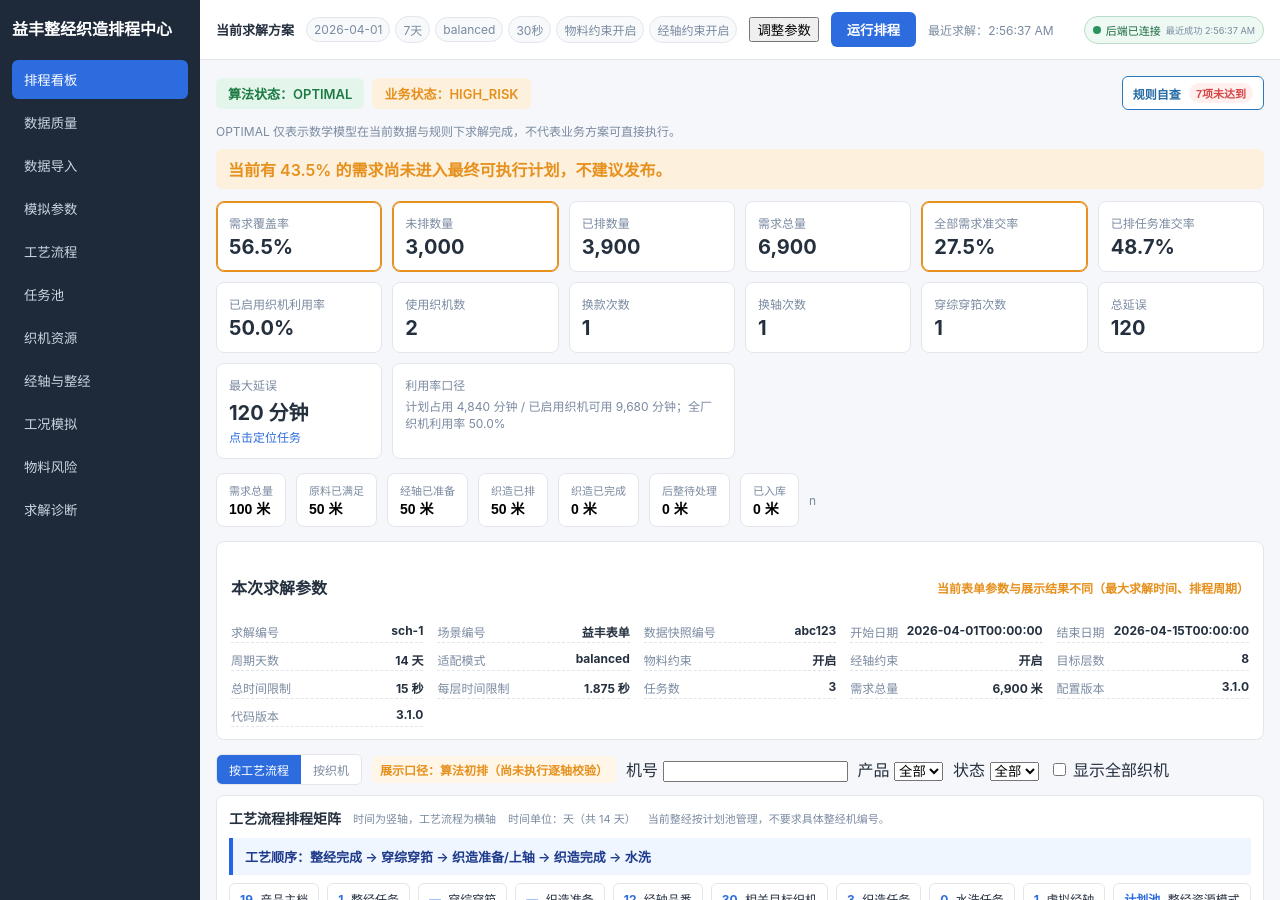
Test: App › 排程看板可打开规则自查抽屉
Click the button "规则自查 7项未达到" at (1193, 93), box x1=1122 y1=76 x2=1264 y2=110
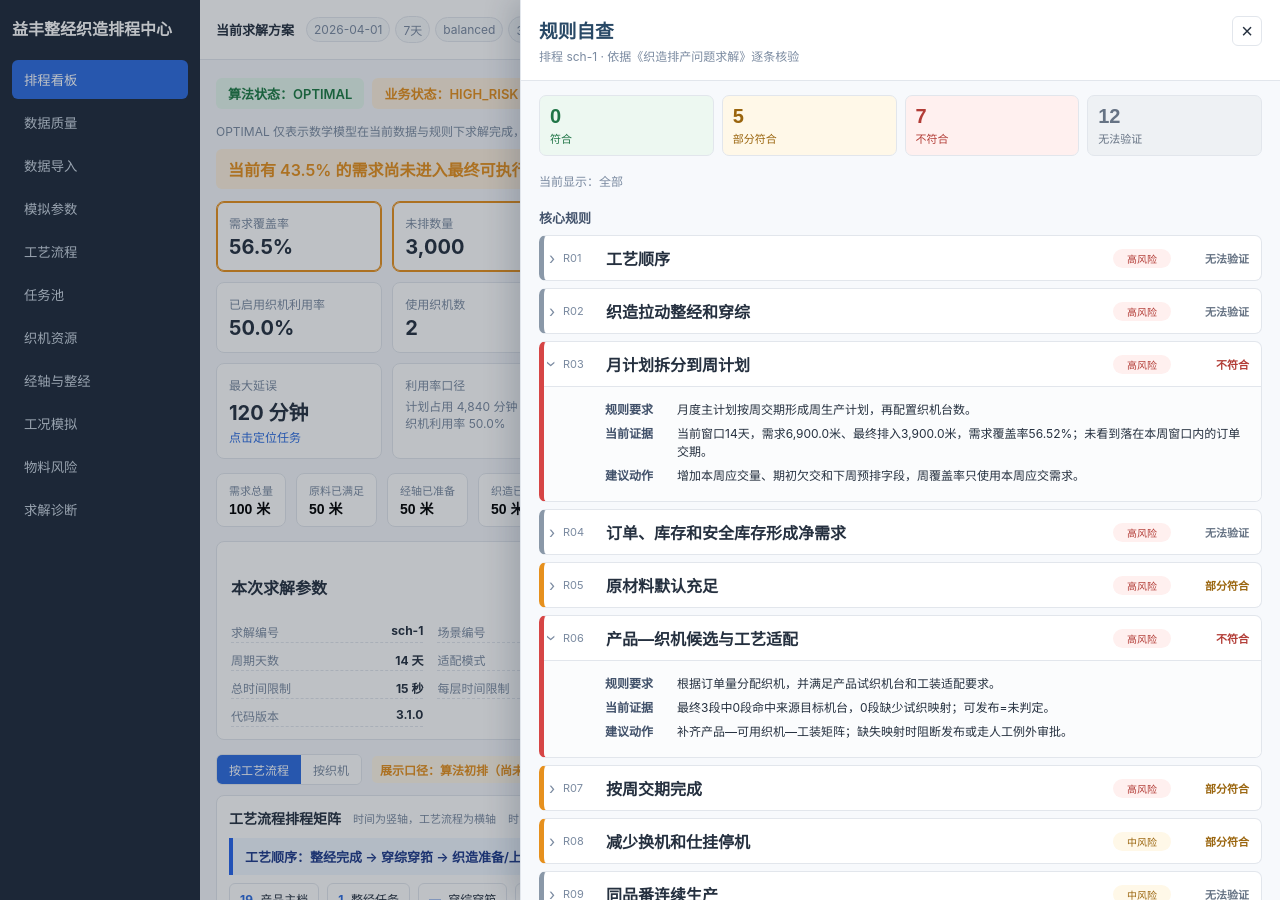
Check: the dialog named "规则自查明细" is shown, box x1=520 y1=0 x2=1279 y2=899
Check: the text "排程 sch-1 · 依据《织造排产问题求解》逐条核验" is shown, box x1=539 y1=47 x2=799 y2=64
Click the button named "关闭" at (1247, 31), box x1=1232 y1=16 x2=1262 y2=46
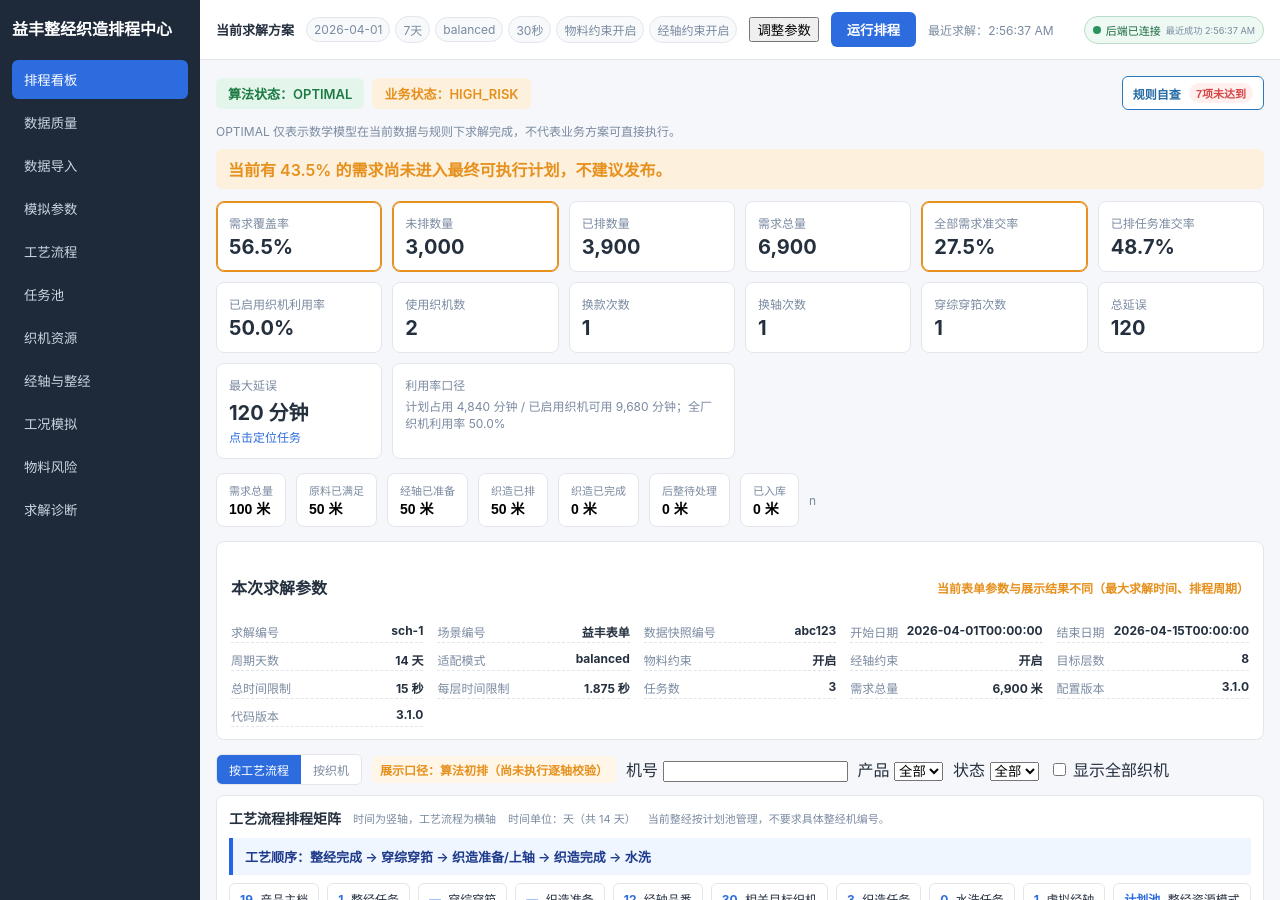
Check: the dialog "规则自查明细" is gone
